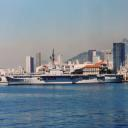Portanaves: (5, 50, 125, 88)
